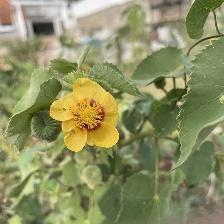indian mallow: (48, 76, 124, 151)
